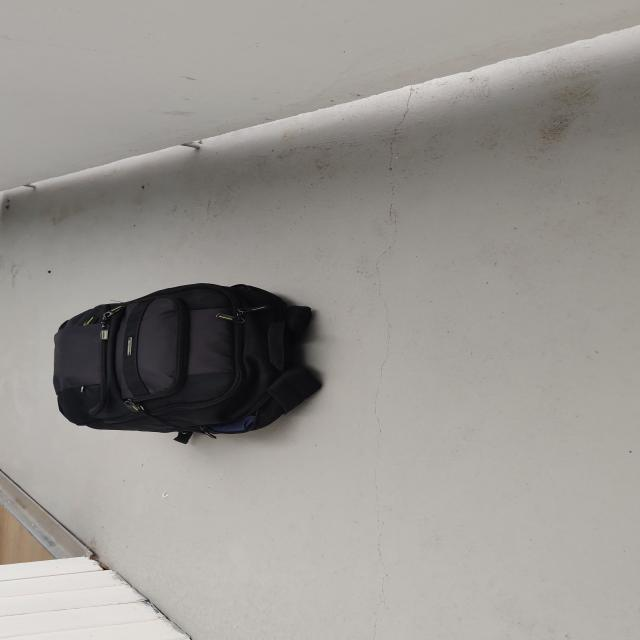backpack: (39, 275, 333, 443)
